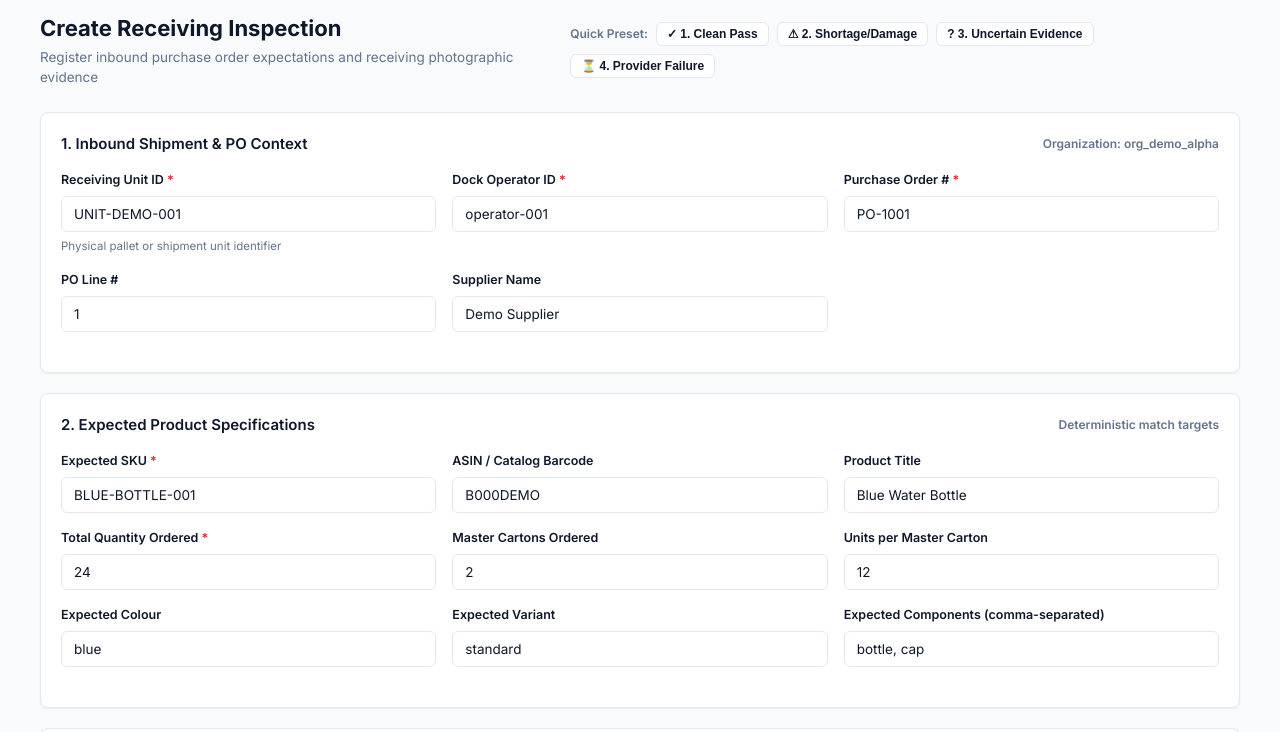
Test: Receiving Manager Frontend Unit & Integration Tests › 15. Demo scenario presets auto-populate form fields
The width and height of the screenshot is (1280, 732).
Click the button with test id "preset-fail". click: click(852, 34)
box: [777,22,928,46]
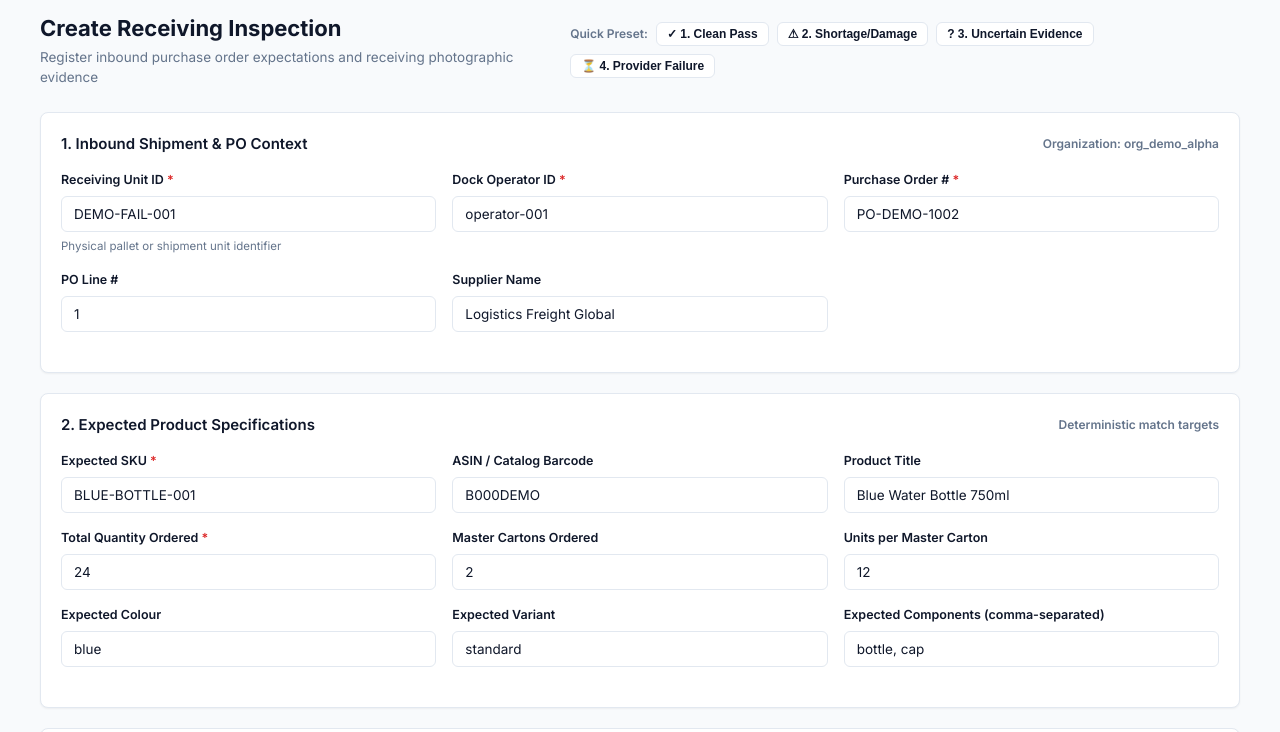
Expected: the number field labelled "Total Quantity Ordered *" holds "24", [61,554,436,590]
Expected: the field labelled "Receiving Unit ID *" holds "DEMO-FAIL-001", [61,196,436,232]
Expected: the field labelled "Purchase Order # *" holds "PO-DEMO-1002", [844,196,1219,232]
